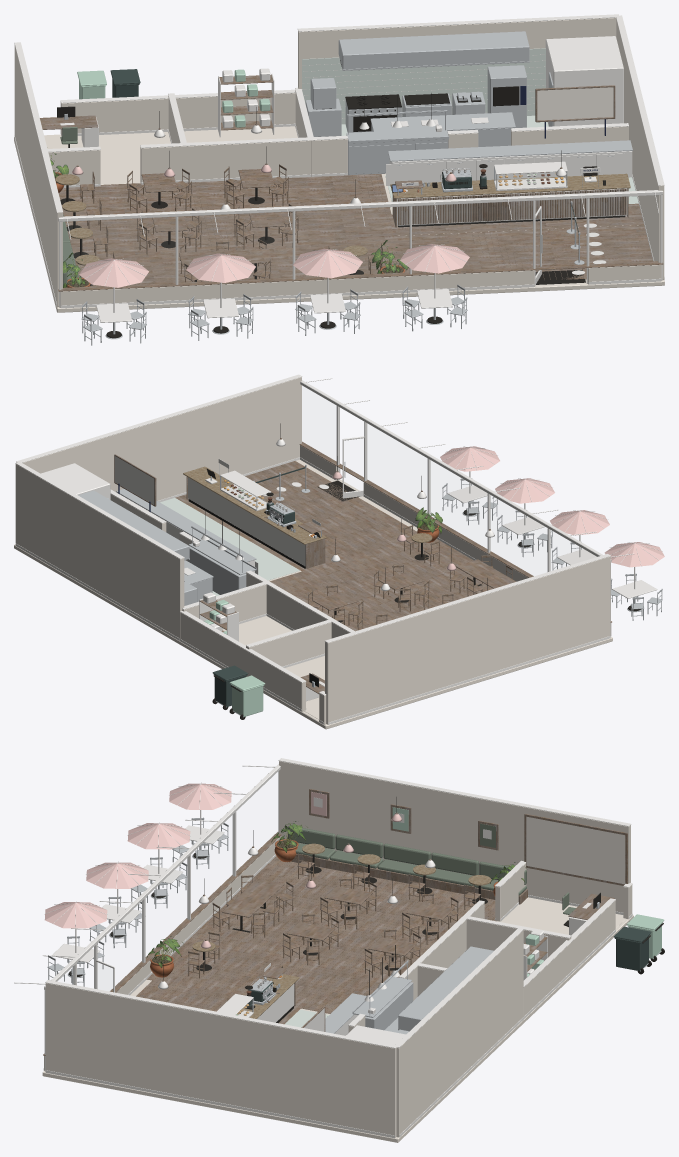
File: cafe-inside.glb
3 renders of one model, top to bottom at view 1: azimuth 30°, elevation 25°; view 2: azimuth 150°, elevation 25°; view 3: azimuth 270°, elevation 25°, orthographic. The views are drawn at different scales.
Parts seen in each view (by area): view 1: cafe_plaster_cream 27, cafe_white 5, cafe_floor_honey 26, cafe_steel_brushed 1, cafe_oak_light 4, cafe_tile_mint 25, cafe_blush 21, cafe_charcoal 2, cafe_terrazzo 16, cafe_board_face 17, cafe_mint 7, cafe_powder_blue 9 (+2 smaller); view 2: cafe_plaster_cream 27, cafe_white 5, cafe_floor_honey 26, cafe_steel_brushed 1, cafe_oak_light 4, cafe_blush 21, cafe_tile_mint 25, cafe_charcoal 2, cafe_terrazzo 16, cafe_mint 7, cafe_powder_blue 9; view 3: cafe_plaster_cream 27, cafe_floor_honey 26, cafe_white 5, cafe_oak_light 4, cafe_steel_brushed 1, cafe_blush 21, cafe_lilac 19, cafe_board_face 17, cafe_charcoal 2, cafe_terrazzo 16, cafe_powder_blue 9, cafe_mint 7 (+2 smaller).
Part boxes in pixels (bbox=[...]): cafe_plaster_cream 27: bbox=[14, 17, 664, 312]; cafe_white 5: bbox=[14, 14, 664, 322]; cafe_floor_honey 26: bbox=[58, 174, 653, 306]; cafe_steel_brushed 1: bbox=[64, 31, 632, 345]; cafe_oak_light 4: bbox=[40, 74, 663, 291]; cafe_tile_mint 25: bbox=[302, 48, 638, 203]; cafe_blush 21: bbox=[72, 164, 469, 287]; cafe_charcoal 2: bbox=[57, 60, 625, 338]; cafe_terrazzo 16: bbox=[55, 173, 630, 265]; cafe_board_face 17: bbox=[537, 87, 613, 120]; cafe_mint 7: bbox=[77, 69, 270, 127]; cafe_powder_blue 9: bbox=[110, 69, 578, 232]; cafe_plaster_cream 27: bbox=[14, 377, 612, 729]; cafe_white 5: bbox=[15, 374, 662, 724]; cafe_floor_honey 26: bbox=[175, 461, 493, 631]; cafe_steel_brushed 1: bbox=[78, 462, 662, 717]; cafe_oak_light 4: bbox=[114, 438, 611, 693]; cafe_blush 21: bbox=[332, 446, 664, 570]; cafe_tile_mint 25: bbox=[160, 498, 299, 596]; cafe_charcoal 2: bbox=[188, 423, 640, 719]; cafe_terrazzo 16: bbox=[183, 466, 432, 544]; cafe_mint 7: bbox=[204, 599, 265, 716]; cafe_powder_blue 9: bbox=[212, 467, 305, 706]; cafe_plaster_cream 27: bbox=[42, 761, 633, 1142]; cafe_floor_honey 26: bbox=[136, 856, 497, 1024]; cafe_white 5: bbox=[14, 758, 632, 1138]; cafe_oak_light 4: bbox=[43, 788, 627, 1055]; cafe_steel_brushed 1: bbox=[47, 817, 661, 1034]; cafe_blush 21: bbox=[44, 783, 401, 948]; cafe_lilac 19: bbox=[288, 823, 575, 914]; cafe_board_face 17: bbox=[526, 816, 625, 884]; cafe_charcoal 2: bbox=[68, 797, 664, 1022]; cafe_terrazzo 16: bbox=[192, 843, 491, 1018]; cafe_powder_blue 9: bbox=[245, 926, 651, 1007]; cafe_mint 7: bbox=[392, 807, 664, 976].
Size of the model in its own units: 22.02 by 3.27 by 20.39.
28 materials, 8 textured.
